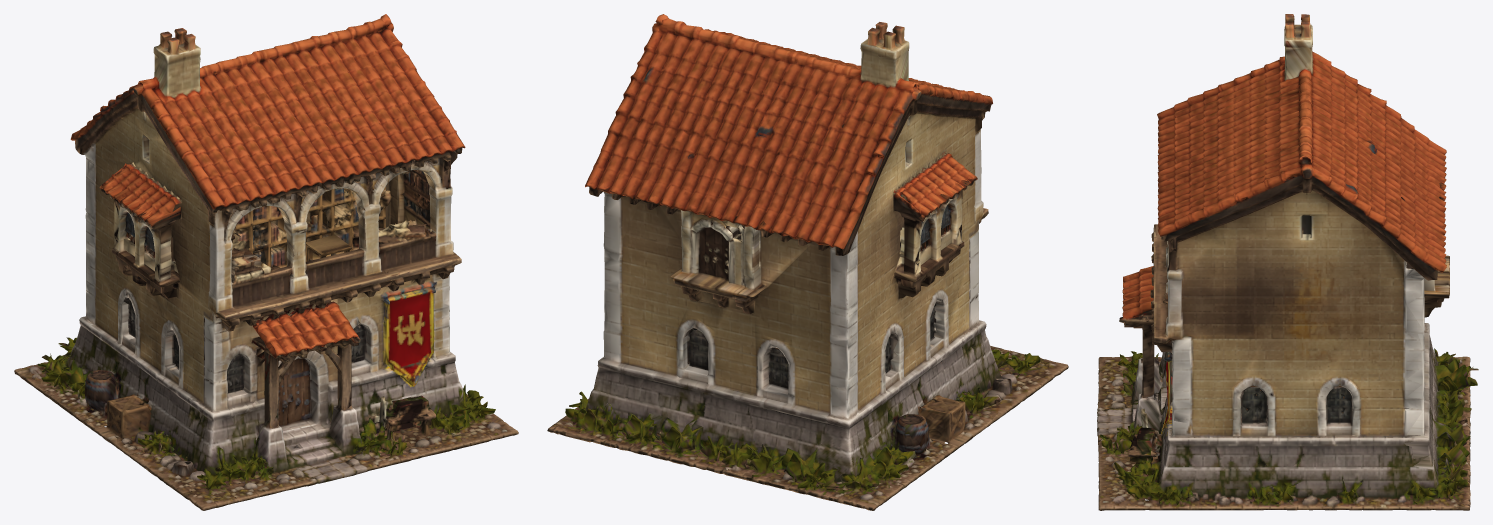
File: SM_BibliotecaOCentroDeEstudios.fbx
3 views of the same model, side by side, from view 1: azimuth 30°, elevation 25°; view 2: azimuth 150°, elevation 25°; view 3: azimuth 270°, elevation 25° (orthographic). The views are drawn at different scales.
Parts seen in each view (by area): view 1: SM_BibliotecaOCentroDeEstudios; view 2: SM_BibliotecaOCentroDeEstudios; view 3: SM_BibliotecaOCentroDeEstudios.
Part boxes in pixels (x1,y1,x2,y2): SM_BibliotecaOCentroDeEstudios: (14, 14, 518, 510); SM_BibliotecaOCentroDeEstudios: (547, 14, 1068, 510); SM_BibliotecaOCentroDeEstudios: (1097, 14, 1478, 510).
Size of the model in its own units: 93.51 by 109 by 99.54.
1 material, 1 textured.
